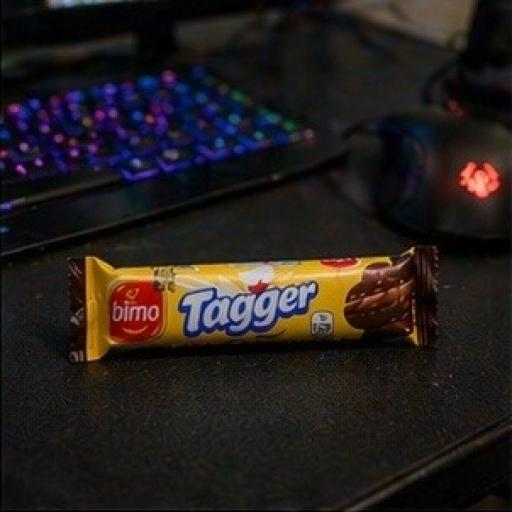tagger: (71, 203, 482, 396)
